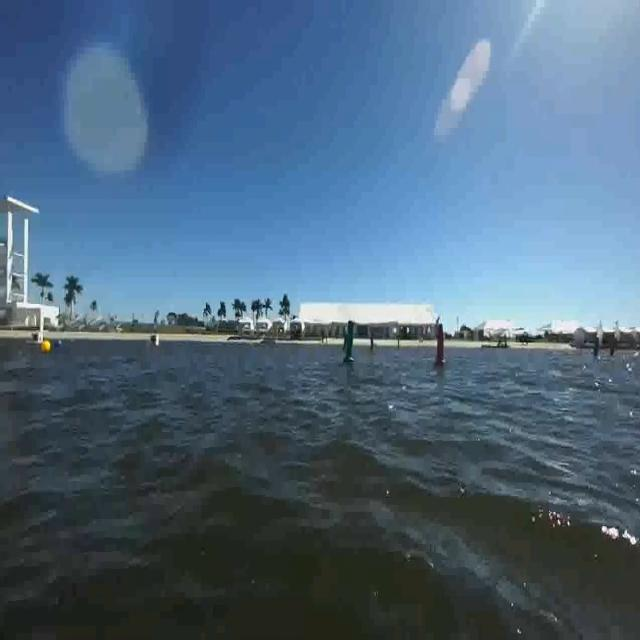green-column-buoy: (345, 316, 356, 371)
red-column-buoy: (432, 328, 446, 368)
yellow-buoy: (41, 338, 51, 353)
